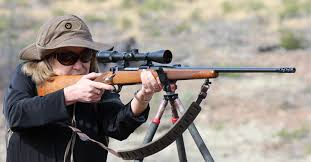rifle: (38, 49, 300, 101)
